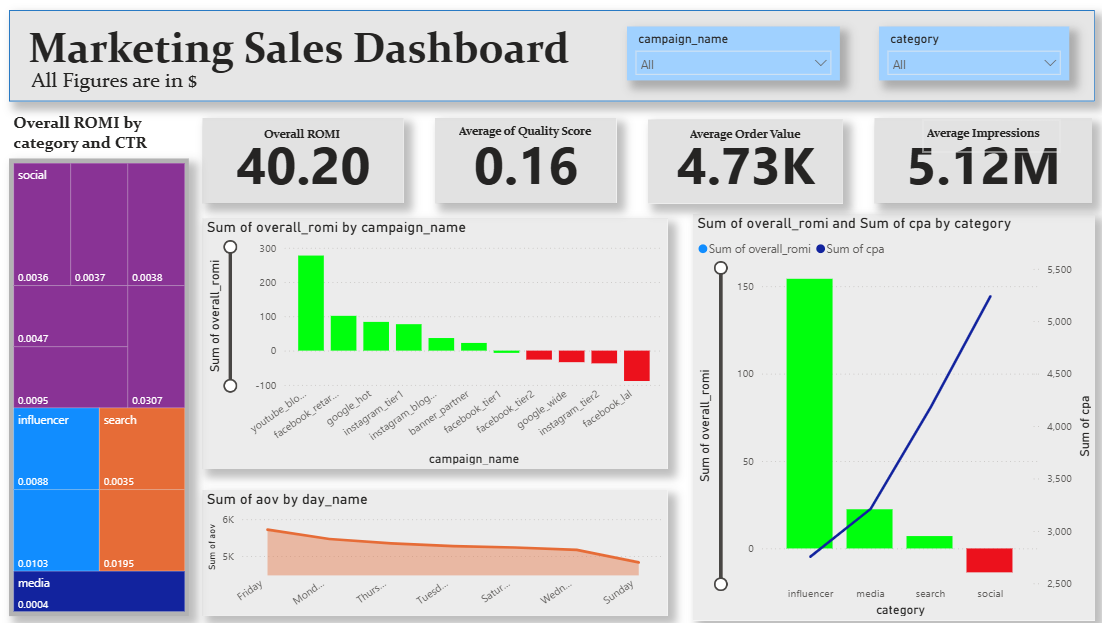

The dashboard page shown, as its layout file describes it:
{"tool":"powerbi","page":{"name":"Page 1","canvas":[1280,720],"ordinal":0},"visuals":[{"type":"card","fields":{"Values":["Sum(overall romi.overall_romi)"]},"box":[236.2,137.9,231,98.3],"z":0},{"type":"lineChart","fields":{"Category":["AOV by days.day_name"],"Y":["Sum(AOV by days.aov)"]},"box":[236.2,565.5,534.5,144.8],"z":2000},{"type":"card","fields":{"Values":["Avg(quality score by campaign.quality_score)"]},"box":[503.4,137.9,208.6,98.3],"z":3000},{"type":"card","fields":{"Values":["Avg(funnel analysis by campaign.aov)"]},"box":[748.3,139.7,224.1,96.6],"z":4000},{"type":"columnChart","fields":{"Category":["romi by campaign.campaign_name"],"Y":["Sum(romi by campaign.overall_romi)"]},"box":[236.2,253.4,534.5,287.9],"z":5000},{"type":"treemap","fields":{"Group":["romi by category.category"],"Values":["CountNonNull(romi by category.overall_romi)"],"Details":["quality score by campaign.ctr"]},"box":[13.8,184.5,206.9,525.9],"z":6000},{"type":"shape","box":[13.8,13.8,1248.3,105.2],"z":8000},{"type":"textbox","box":[31,22.4,684.5,87.9],"z":9000},{"type":"slicer","fields":{"Values":["quality score by campaign.campaign_name"]},"box":[724.1,32.8,244.8,62.1],"z":10000},{"type":"slicer","fields":{"Values":["romi by category.category"]},"box":[1013.8,32.8,219,62.1],"z":11000},{"type":"textbox","box":[34.5,74.1,215.5,41.4],"z":12000},{"type":"textbox","box":[301.7,141.4,98.3,41.4],"z":13000},{"type":"textbox","box":[525.9,137.9,170.7,41.4],"z":14000},{"type":"textbox","box":[791.4,141.4,139.7,34.5],"z":15000},{"type":"card","fields":{"Values":["Avg(Marketing.impressions)"]},"box":[1008.6,137.9,250,98.3],"z":16000},{"type":"textbox","box":[1063.8,139.7,158.6,37.9],"z":17000},{"type":"textbox","box":[13.8,125.9,222.4,58.6],"z":18000},{"type":"lineStackedColumnComboChart","fields":{"Category":["romi cpa category.category"],"Y":["Sum(romi cpa category.overall_romi)"],"Y2":["Sum(romi cpa category.cpa)"]},"box":[800,248.3,462.1,467.2],"z":18002}]}

Visuals, with their boxes in screenshot pixels (x1, y1, x2, y2), scaled from the page's 1280x720 canvas onto the 1102x623 screenshot:
card - Sum(overall romi.overall_romi): {"x1": 203, "y1": 119, "x2": 402, "y2": 204}
lineChart - AOV by days.day_name x Sum(AOV by days.aov): {"x1": 203, "y1": 489, "x2": 664, "y2": 615}
card - Avg(quality score by campaign.quality_score): {"x1": 433, "y1": 119, "x2": 613, "y2": 204}
card - Avg(funnel analysis by campaign.aov): {"x1": 644, "y1": 121, "x2": 837, "y2": 204}
columnChart - romi by campaign.campaign_name x Sum(romi by campaign.overall_romi): {"x1": 203, "y1": 219, "x2": 664, "y2": 468}
treemap - romi by category.category x CountNonNull(romi by category.overall_romi): {"x1": 12, "y1": 160, "x2": 190, "y2": 615}
shape: {"x1": 12, "y1": 12, "x2": 1087, "y2": 103}
textbox: {"x1": 27, "y1": 19, "x2": 616, "y2": 95}
slicer - quality score by campaign.campaign_name: {"x1": 623, "y1": 28, "x2": 834, "y2": 82}
slicer - romi by category.category: {"x1": 873, "y1": 28, "x2": 1061, "y2": 82}
textbox: {"x1": 30, "y1": 64, "x2": 215, "y2": 100}
textbox: {"x1": 260, "y1": 122, "x2": 344, "y2": 158}
textbox: {"x1": 453, "y1": 119, "x2": 600, "y2": 155}
textbox: {"x1": 681, "y1": 122, "x2": 802, "y2": 152}
card - Avg(Marketing.impressions): {"x1": 868, "y1": 119, "x2": 1084, "y2": 204}
textbox: {"x1": 916, "y1": 121, "x2": 1052, "y2": 154}
textbox: {"x1": 12, "y1": 109, "x2": 203, "y2": 160}
lineStackedColumnComboChart - romi cpa category.category x Sum(romi cpa category.overall_romi): {"x1": 689, "y1": 215, "x2": 1087, "y2": 619}
